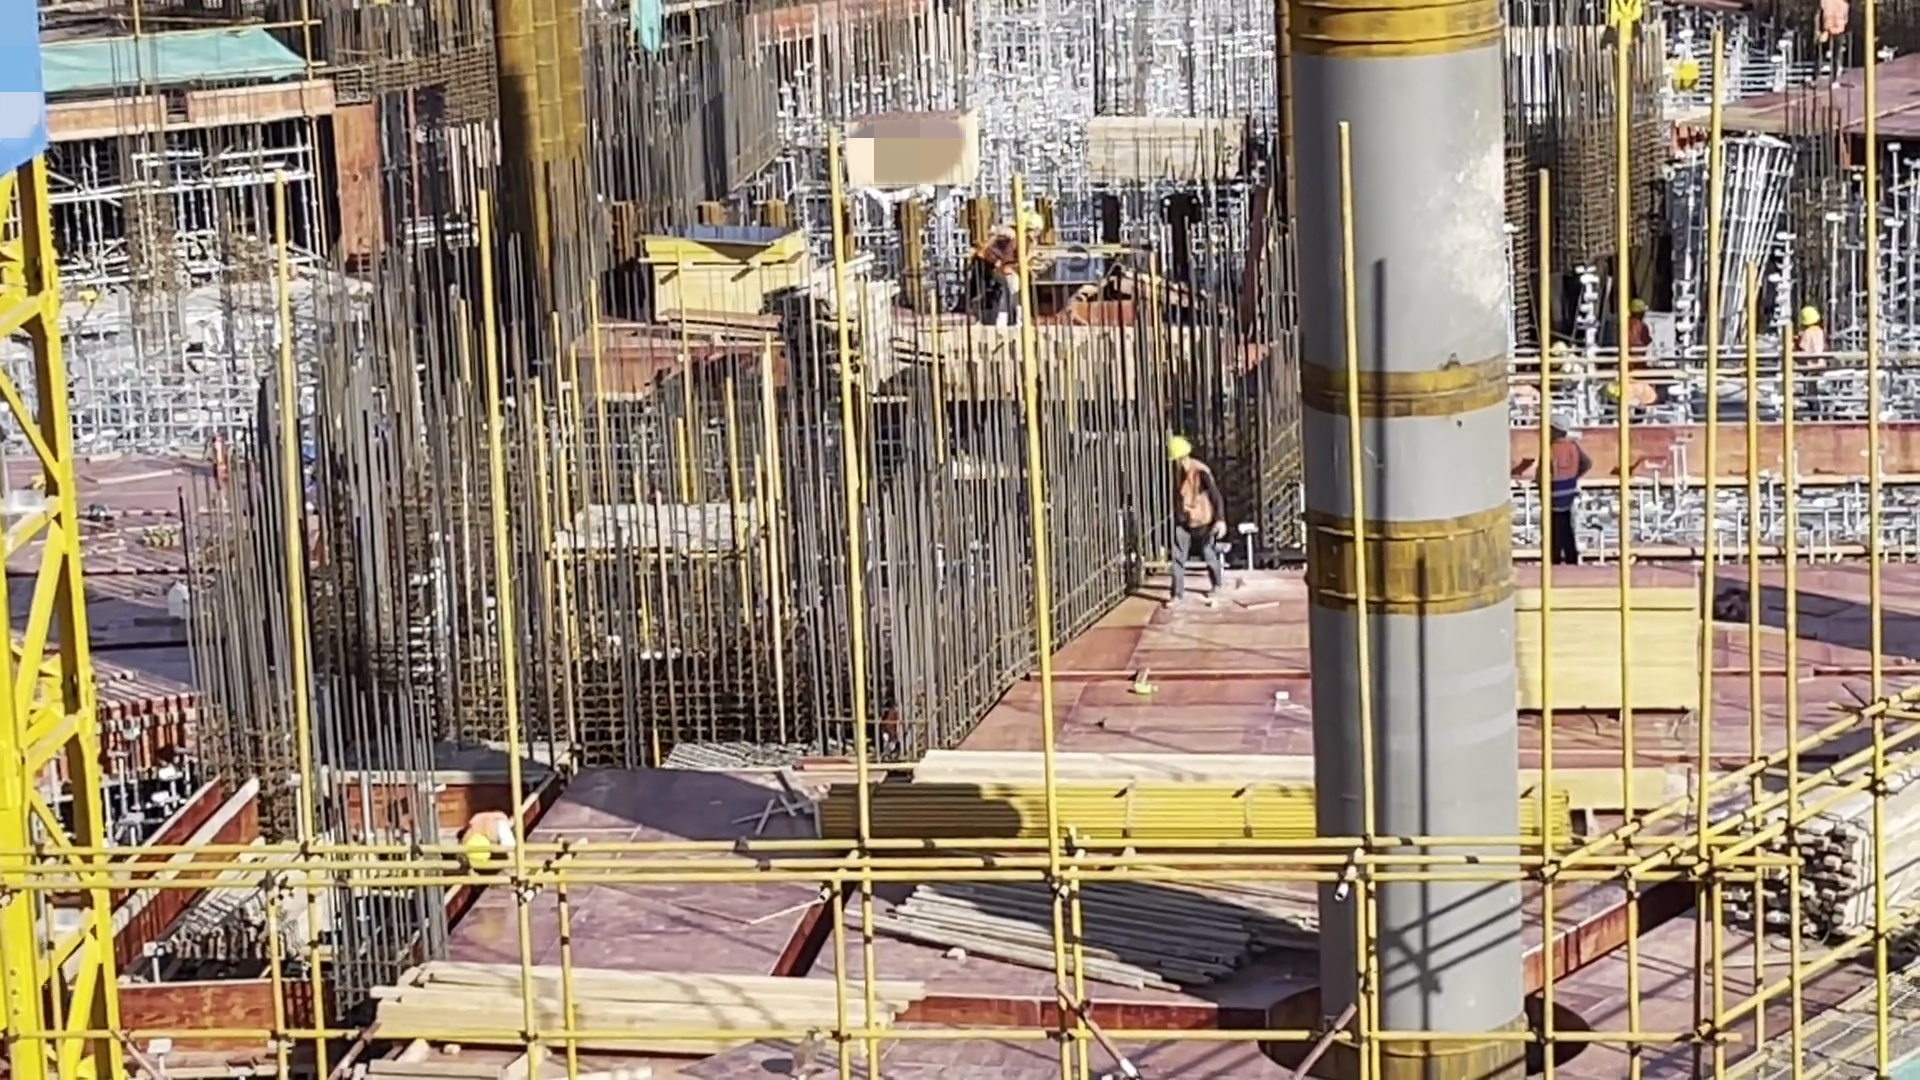helmet: (458, 832, 492, 870), (1796, 307, 1823, 332), (1170, 433, 1193, 459), (1624, 295, 1651, 319), (1020, 209, 1043, 231), (1548, 416, 1568, 436)
person: (1160, 432, 1236, 613), (1512, 414, 1593, 564), (966, 212, 1035, 318), (1791, 301, 1838, 429), (448, 808, 516, 869), (1814, 1, 1851, 88), (1616, 299, 1657, 371)
vest: (1165, 465, 1222, 538), (1528, 435, 1580, 517)
wood: (891, 824, 1254, 1015), (1714, 738, 1920, 956)
